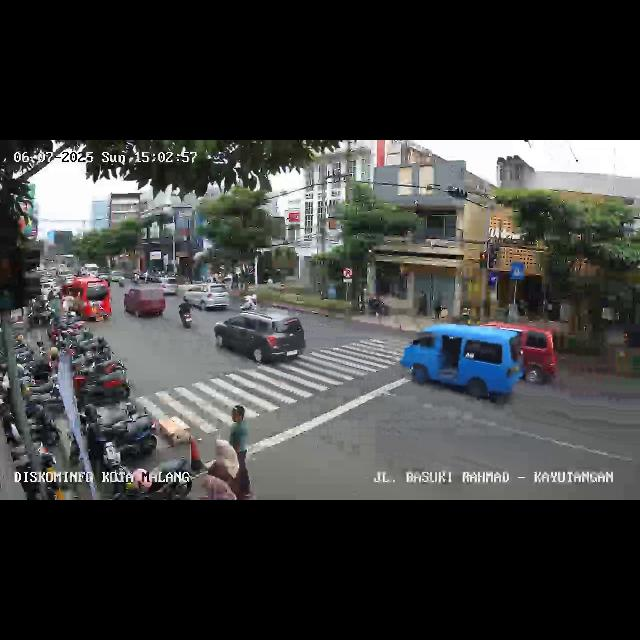car: (404, 322, 524, 408), (214, 308, 308, 367), (520, 323, 560, 392), (63, 278, 111, 324), (122, 284, 166, 322), (182, 282, 232, 312)
motorcycle: (178, 295, 196, 329), (240, 290, 258, 314)
person: (202, 442, 246, 500), (228, 402, 252, 488)
